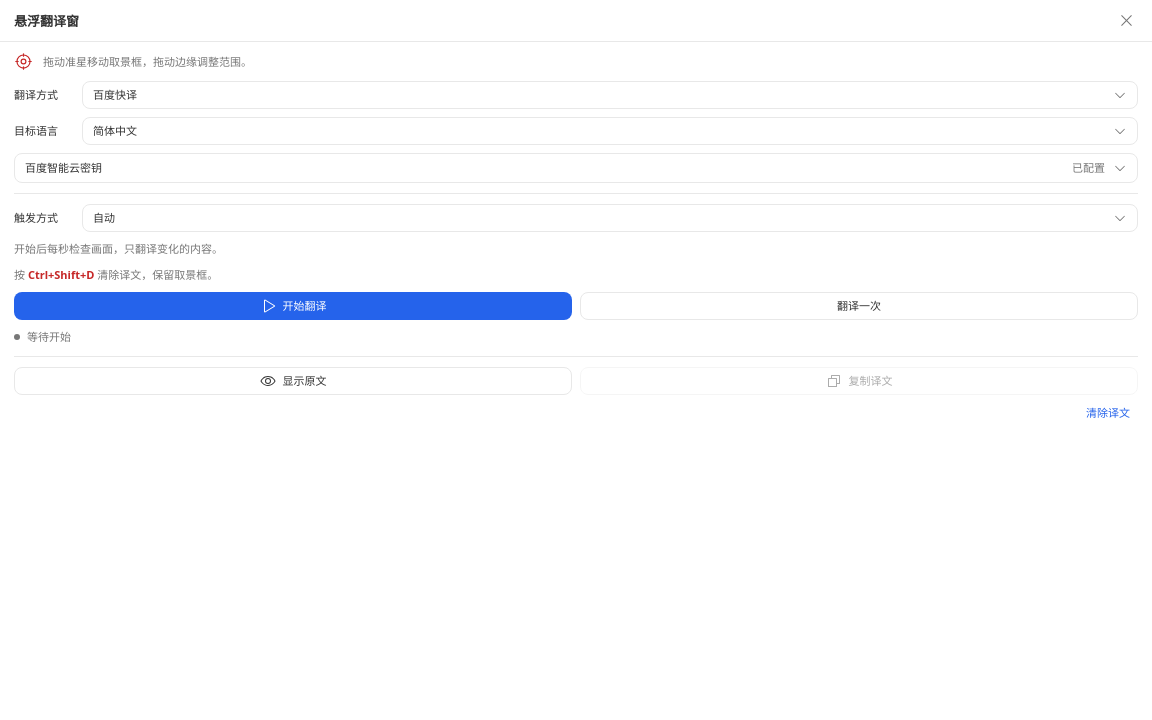
screen translation surface › T03 retains a failed target and original observation across state events and retries exactly that edit
The width and height of the screenshot is (1152, 720).
Click the dropdown named "目标语言" at [115, 131], box [82,117,1138,145]
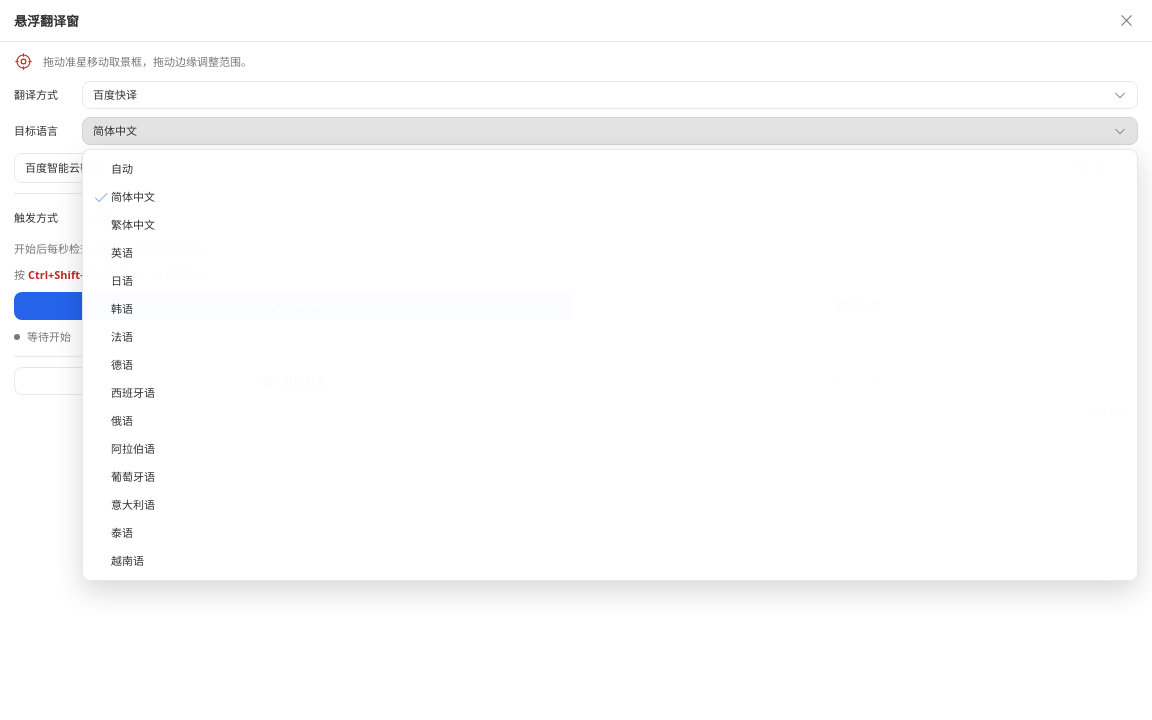
Click the option "英语" at [122, 252], box [88,239,1132,267]
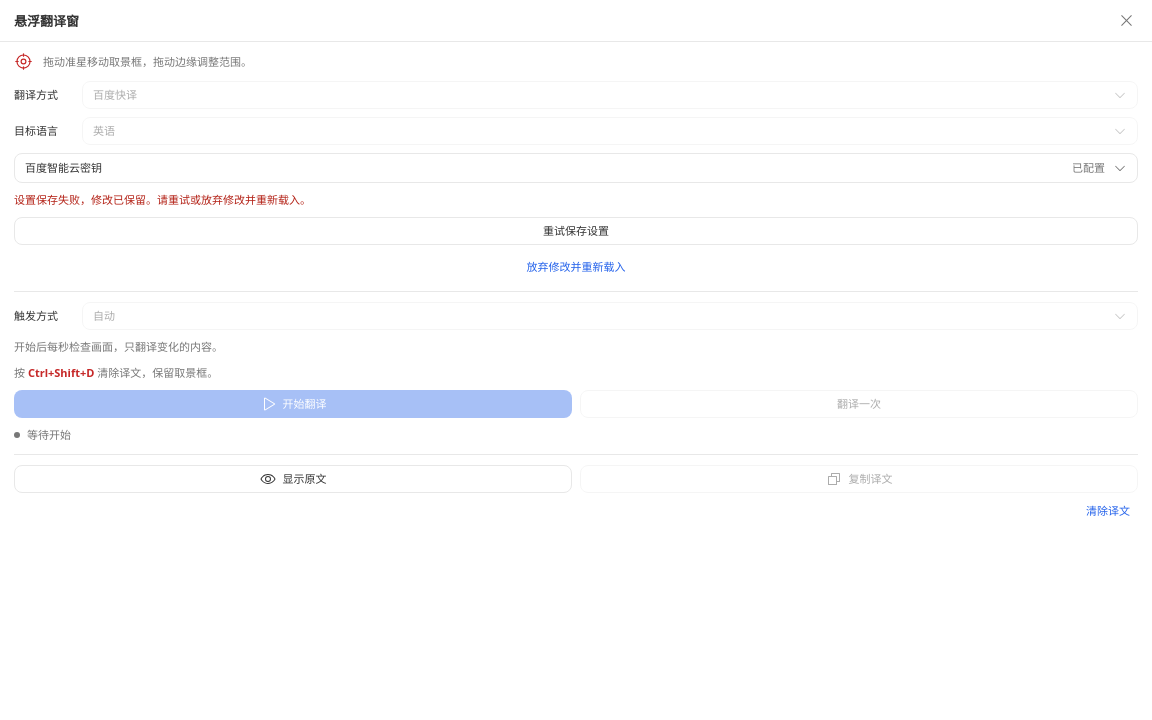
Expected: the button "重试保存设置" is shown
Expected: the dropdown named "目标语言" reads "英语", [82,117,1138,145]
Expected: the dropdown named "目标语言" is disabled, [82,117,1138,145]
Click the button "重试保存设置" at [576, 231], box [14,217,1138,245]
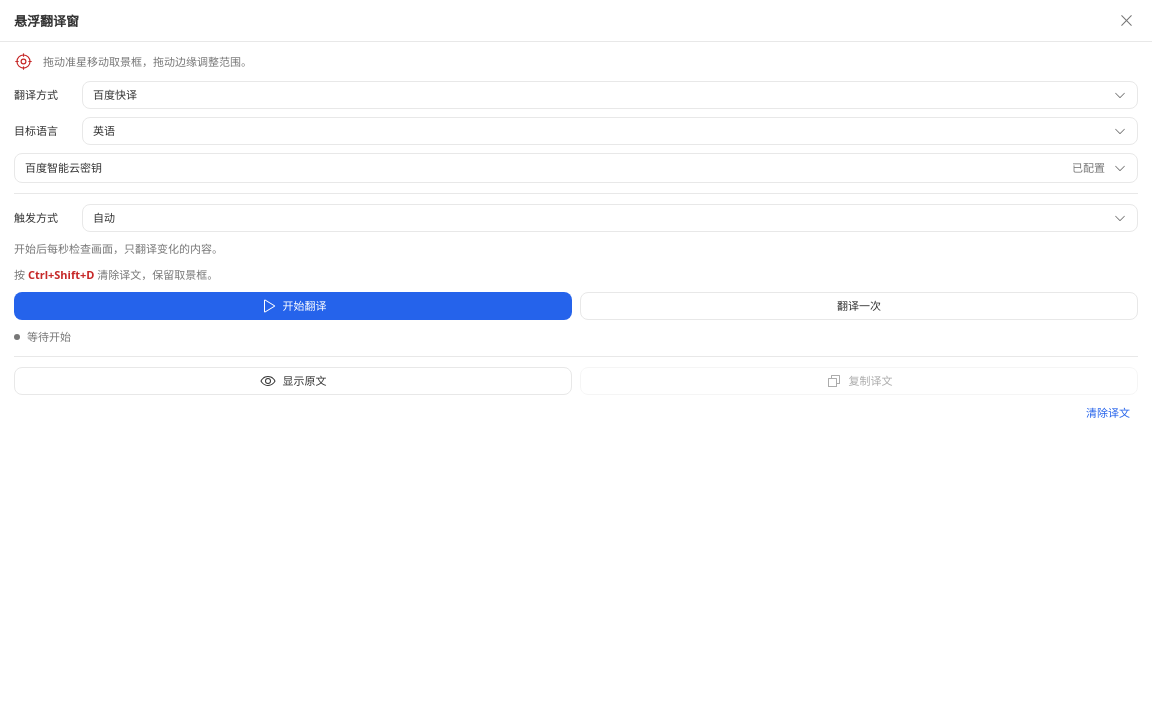
Expected: the button "重试保存设置" is gone
